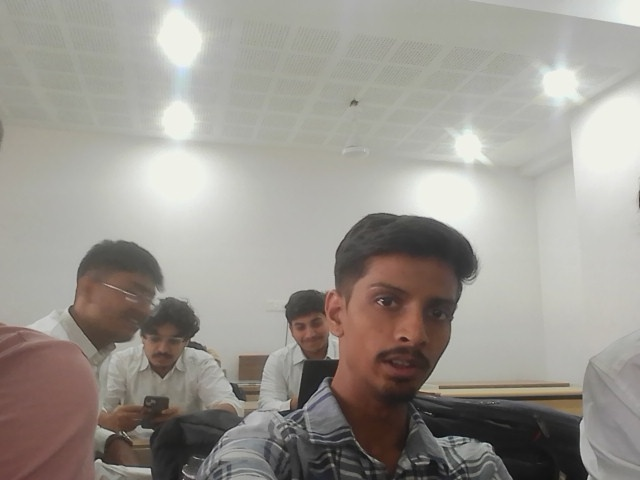fan_on: (340, 94, 370, 154)
light_on: (139, 9, 218, 139), (397, 123, 523, 177), (536, 67, 601, 110)
person: (0, 95, 101, 479), (12, 238, 163, 410), (99, 292, 241, 415), (0, 314, 100, 479), (582, 320, 639, 479), (256, 282, 323, 413)
